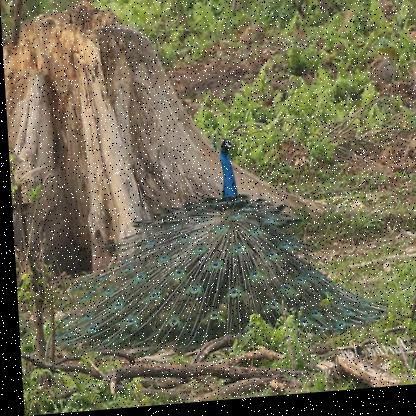Burung: (41, 125, 386, 360)
